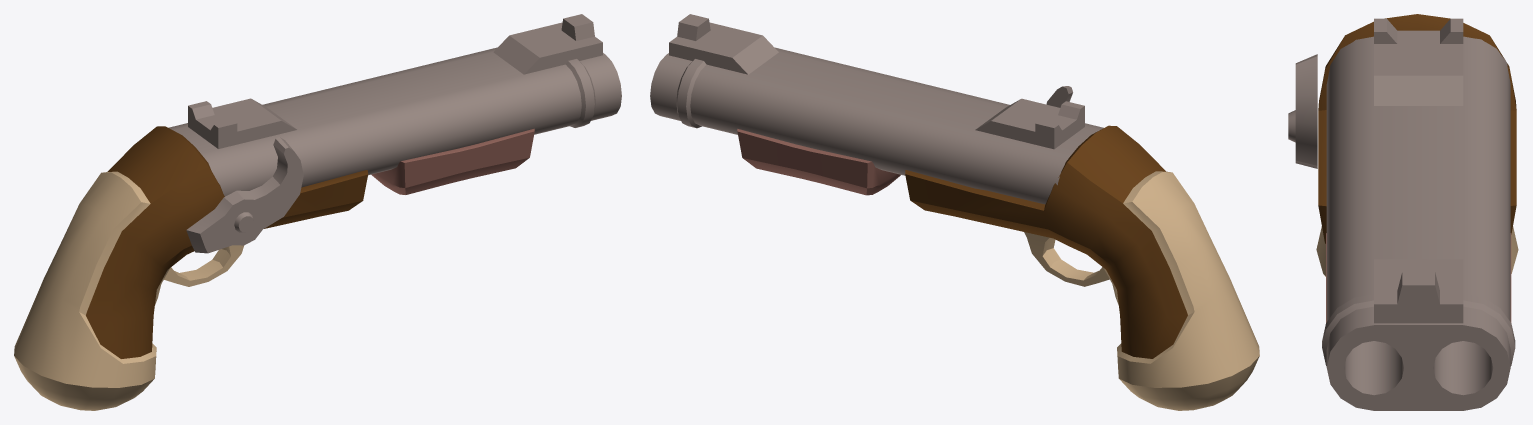
Rendered from weapon-doubleshotgun.glb.
The picture shows the model from 3 angles, left to right: view 1: azimuth 30°, elevation 25°; view 2: azimuth 150°, elevation 25°; view 3: azimuth 270°, elevation 25°; orthographic projection. The views are drawn at different scales.
Visible parts, largest first — view 1: Weapon_DoubleShotgun; view 2: Weapon_DoubleShotgun; view 3: Weapon_DoubleShotgun.
Part boxes in pixels (<box>): Weapon_DoubleShotgun: <box>14,14,621,410</box>; Weapon_DoubleShotgun: <box>650,14,1259,410</box>; Weapon_DoubleShotgun: <box>1288,14,1518,410</box>.
Size of the model in its own units: 1.58 by 0.6987 by 0.3802.
1 material, 1 textured.
